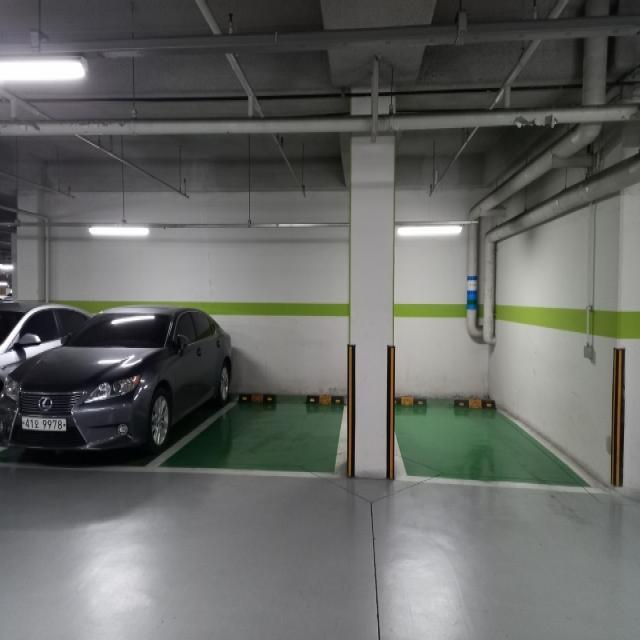Car: (2, 304, 232, 462)
Vacant: (384, 369, 606, 490), (138, 387, 363, 473)
